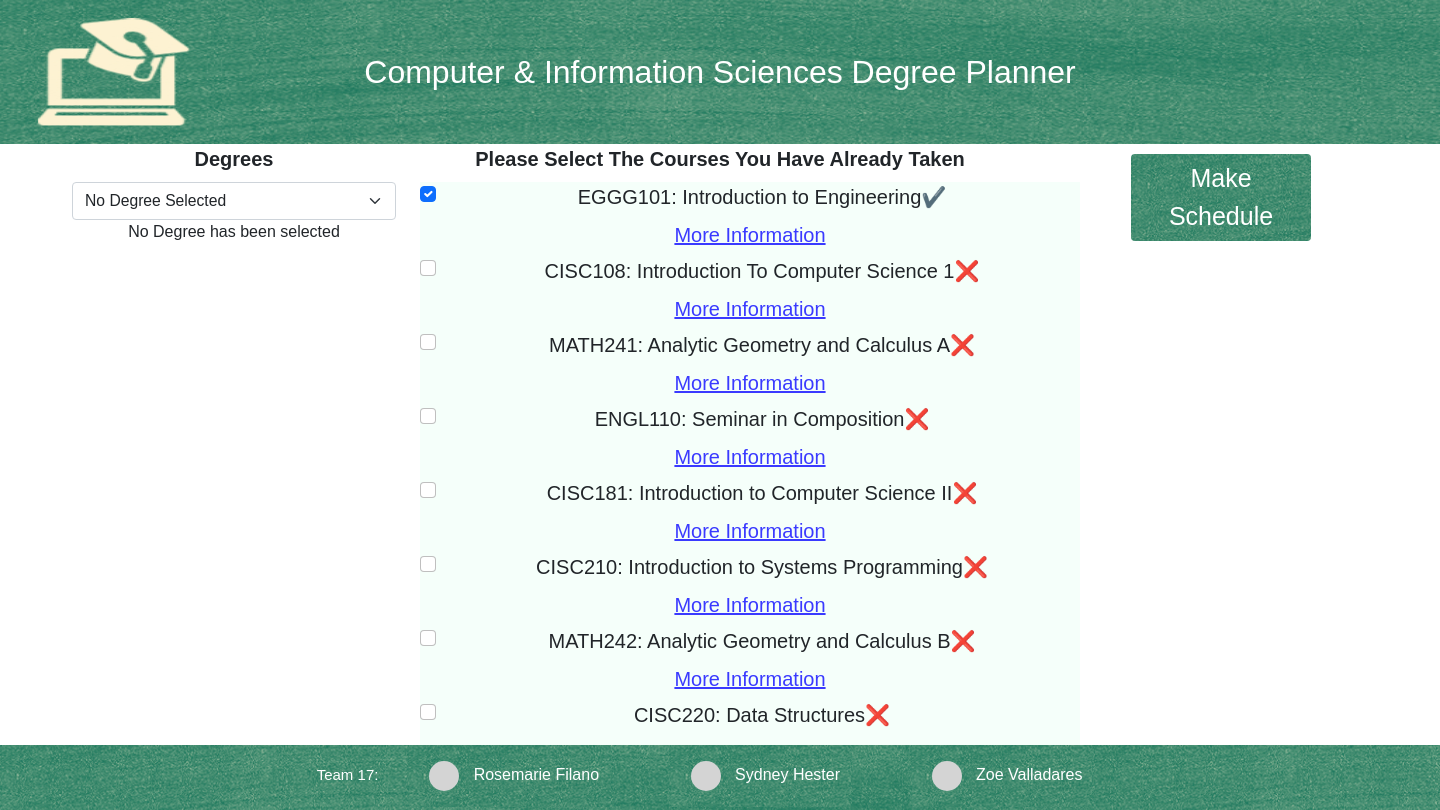
Test case: Testing everything on the homepage › Testing the Select Taken UI › Testing to see if changing the status of taken twice gets us back to not taken
Click the checkbox labelled "EGGG101: Introduction to Engineering✔️": point(428, 194) [420,186,436,202]
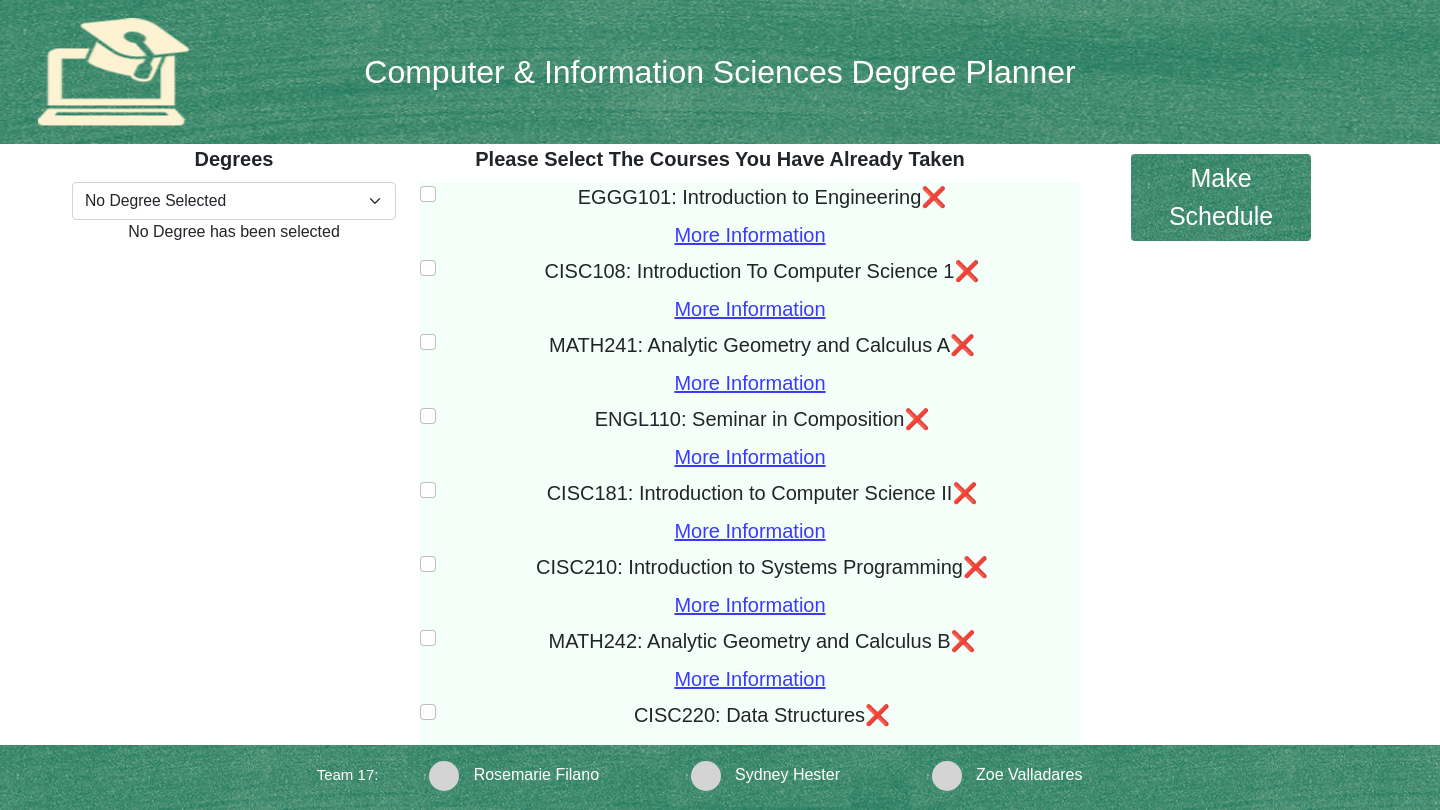
Click the checkbox labelled "EGGG101: Introduction to Engineering❌": point(428, 194) [420,186,436,202]
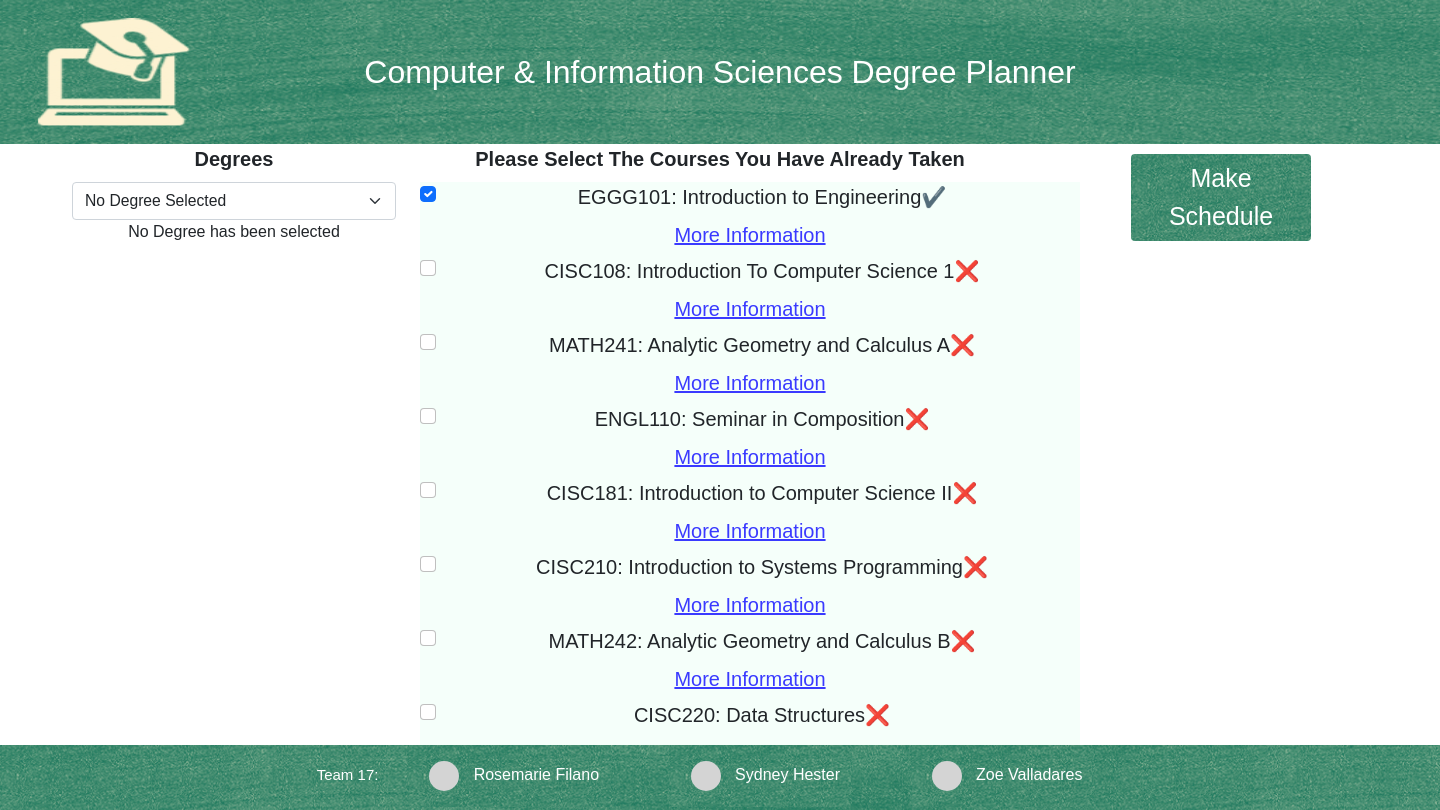
Now the text "EGGG101: Introduction to Engineering✔️" is shown, box [578,182,946,212]
Click the checkbox labelled "EGGG101: Introduction to Engineering✔️": point(428, 194) [420,186,436,202]
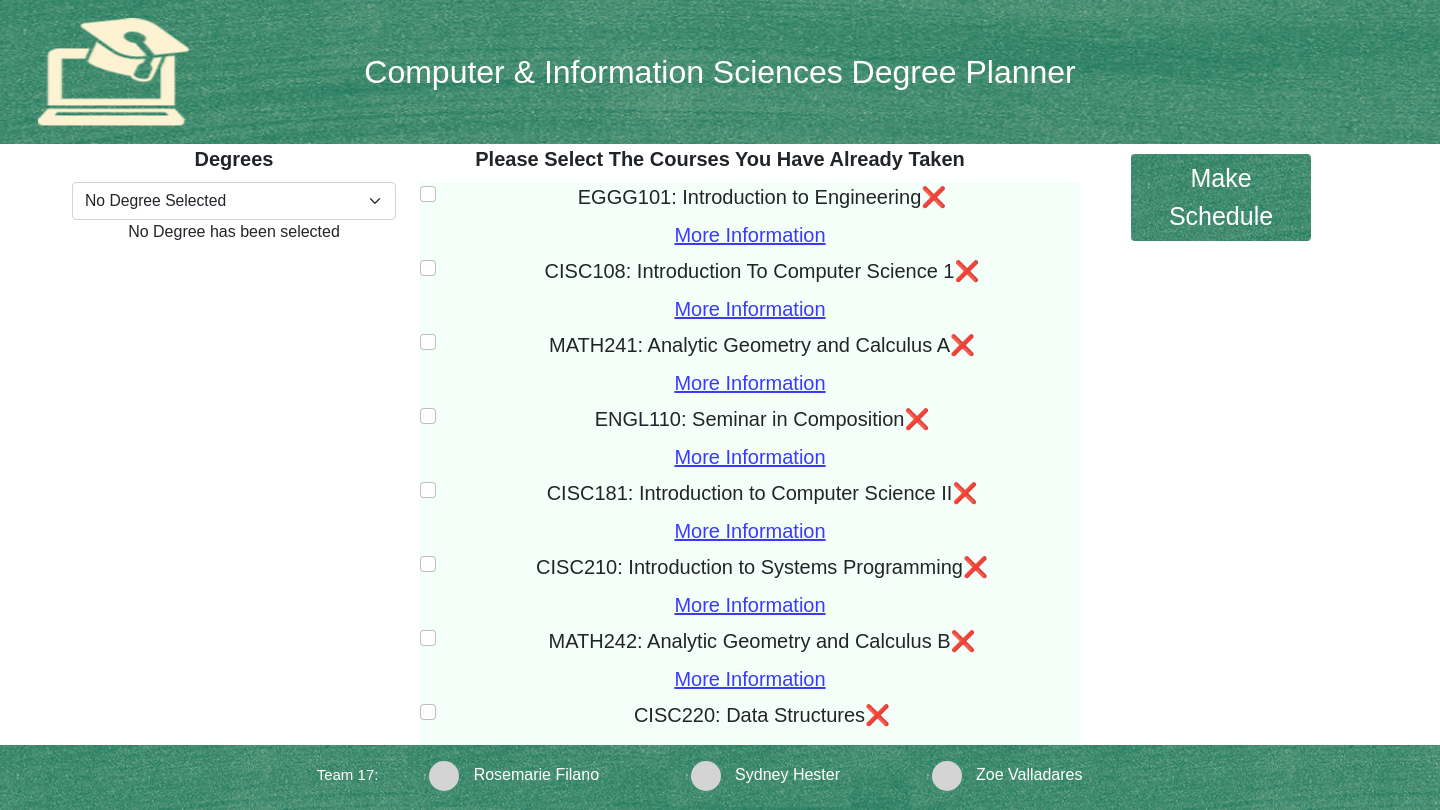
Now the text "EGGG101: Introduction to Engineering❌" is shown, box [578,182,946,212]
